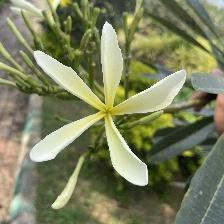champaka: (26, 20, 193, 191)
